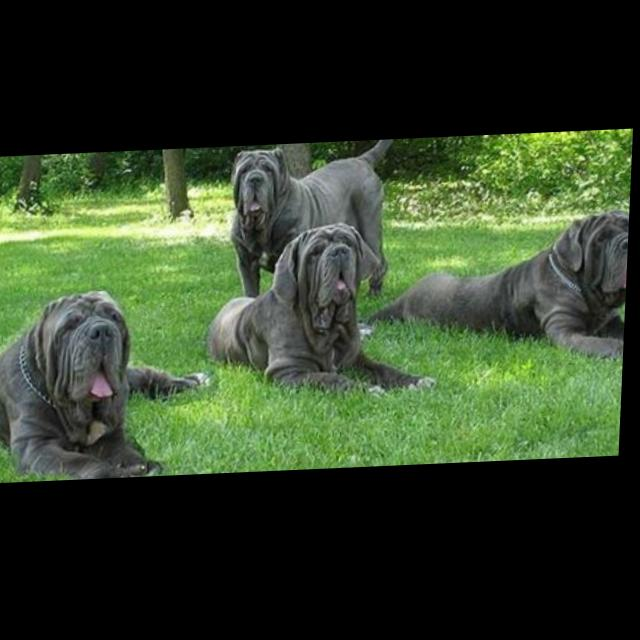mastino_napoletano: (209, 222, 447, 406), (367, 215, 633, 378), (1, 287, 215, 485), (231, 143, 399, 306)
